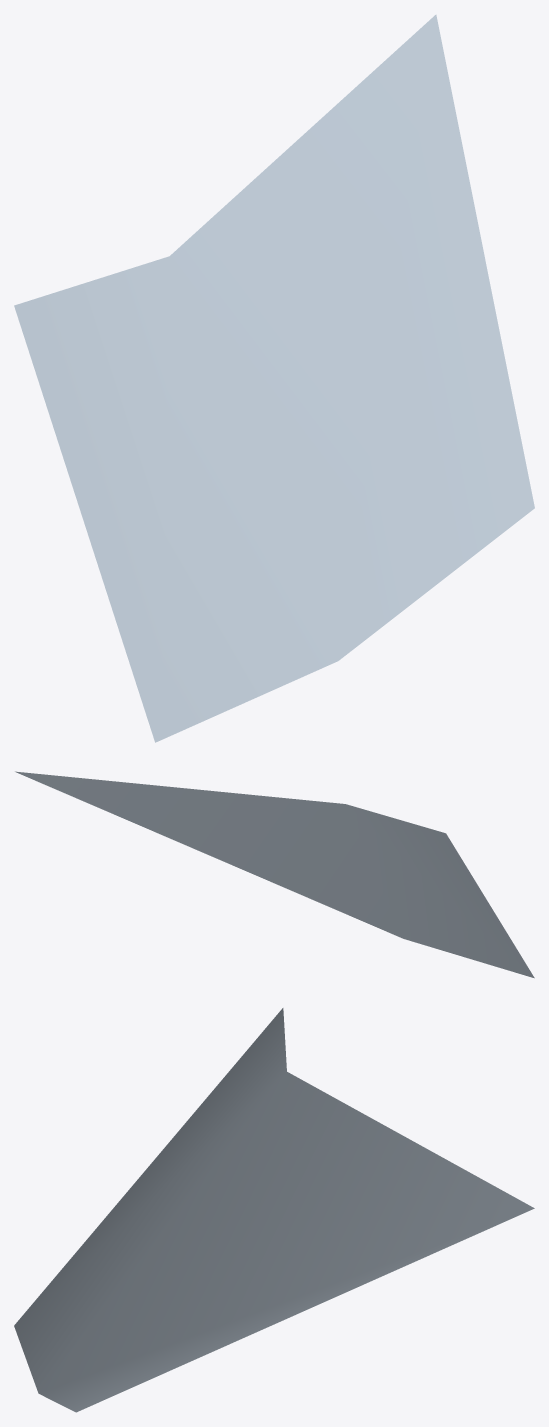
The model's file is interclavicular-ligament-l.glb.
The picture shows the model from 3 angles, top to bottom: view 1: azimuth 30°, elevation 25°; view 2: azimuth 150°, elevation 25°; view 3: azimuth 270°, elevation 25°; orthographic projection. The views are drawn at different scales.
Parts seen in each view (by area): view 1: Interclavicular ligament.l; view 2: Interclavicular ligament.l; view 3: Interclavicular ligament.l.
Part boxes in pixels (left/top/right/bottom): Interclavicular ligament.l: left=14, top=14, right=534, bottom=742; Interclavicular ligament.l: left=15, top=771, right=534, bottom=978; Interclavicular ligament.l: left=14, top=1008, right=534, bottom=1412.
Bounding box in the file's own units: 0.0162 × 0.011 × 0.0138.
